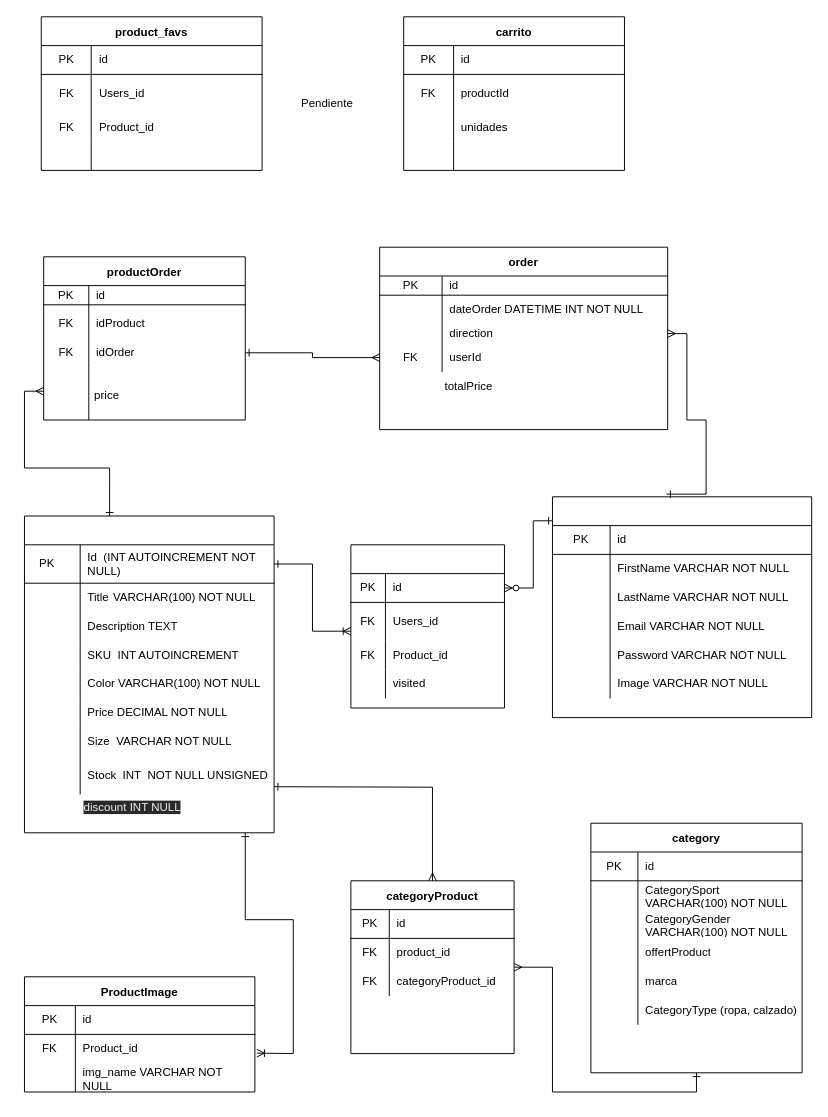
The diagram is 828 pixels wide and 1117 high, and some of its shapes have lost their labels. Here are the shapes that lost their labels. From the top down, the box of each, then its label:
(350, 544, 504, 708): product_user
(552, 496, 812, 718): user
(24, 515, 274, 833): product
